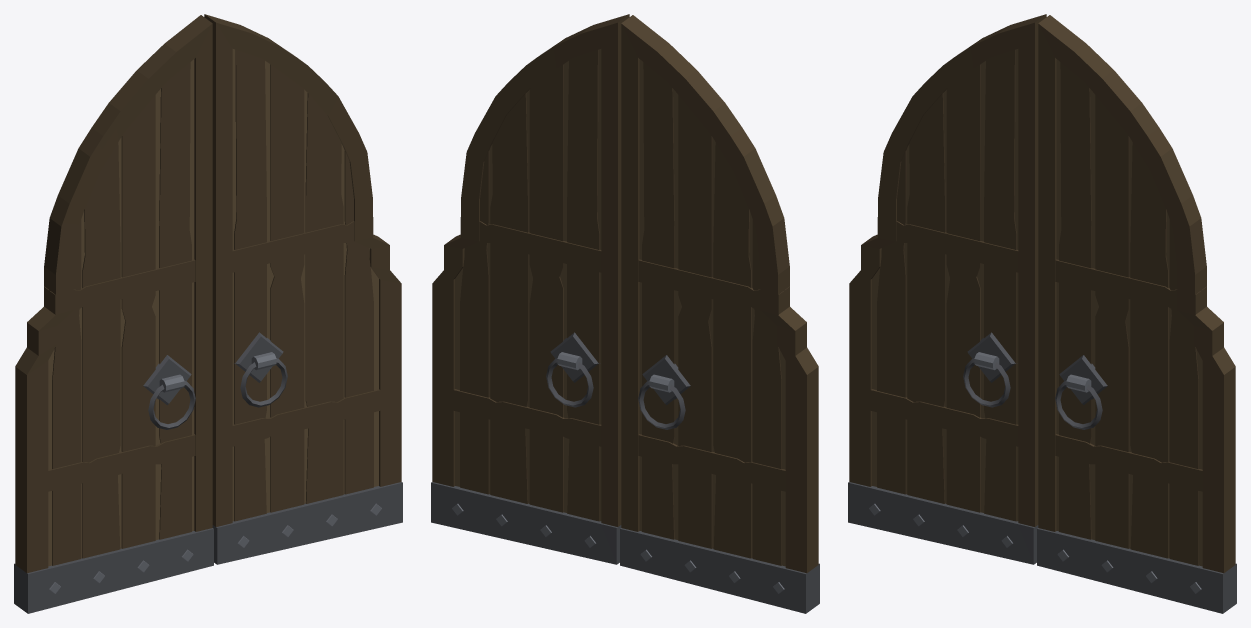
The model's file is Doors_GothicArch.glb.
The picture shows the model from 3 angles, left to right: view 1: azimuth 30°, elevation 25°; view 2: azimuth 150°, elevation 25°; view 3: azimuth 330°, elevation 25°; orthographic projection.
Visible parts, largest first — view 1: DarkWood, Metal, Wood, Metal_Light; view 2: DarkWood, Metal, Wood, Metal_Light; view 3: DarkWood, Metal, Wood, Metal_Light.
Part boxes in pixels (box(x1,y1,x2,y2)): DarkWood: box(15, 14, 401, 573); Metal: box(14, 332, 402, 613); Wood: box(48, 49, 378, 566); Metal_Light: box(49, 352, 381, 593); DarkWood: box(432, 14, 818, 573); Metal: box(431, 332, 819, 613); Wood: box(455, 49, 785, 566); Metal_Light: box(452, 352, 784, 593); DarkWood: box(849, 14, 1235, 573); Metal: box(848, 332, 1236, 613); Wood: box(872, 49, 1202, 566); Metal_Light: box(869, 352, 1201, 593).
Bounding box in the file's own units: 2.31 × 3.21 × 0.2743.
